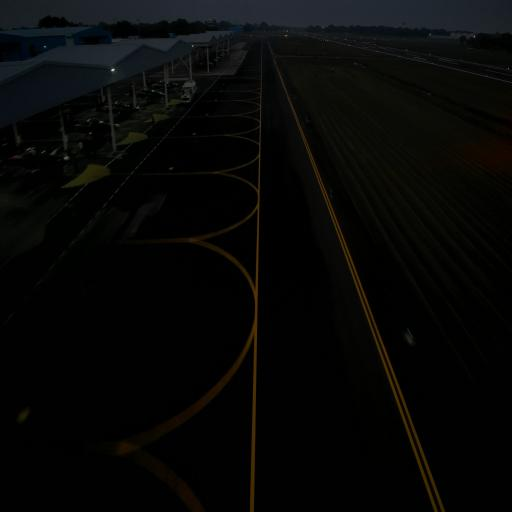on: (408, 326, 414, 340), (306, 116, 308, 120)
